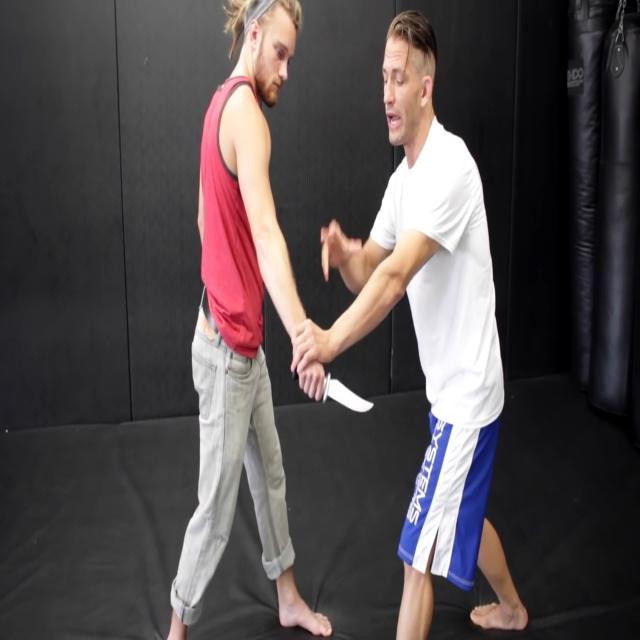knife: (325, 373, 377, 420)
